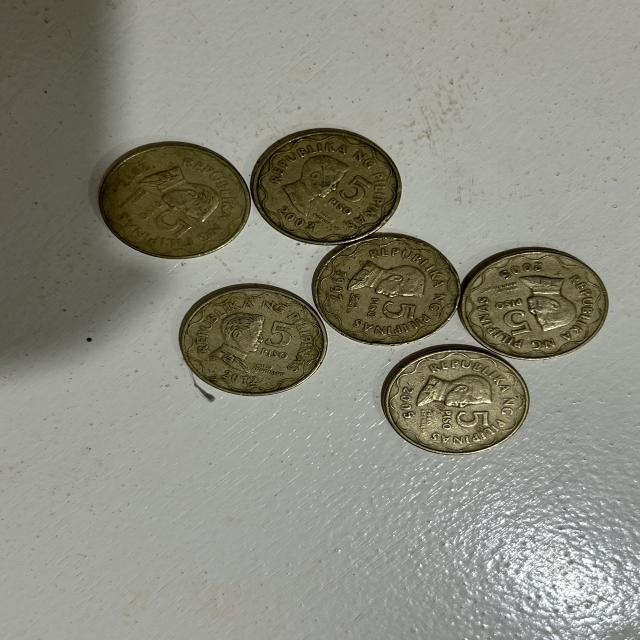5_Old_Front: (130, 197, 200, 246), (432, 404, 508, 439), (326, 169, 372, 223), (359, 294, 436, 322), (256, 318, 298, 366), (491, 296, 537, 338)
